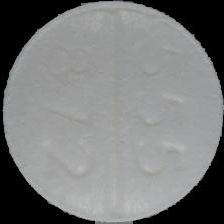63629-2613: (0, 0, 224, 224)
